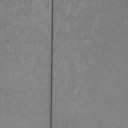surface scratch: (50, 0, 54, 128)
